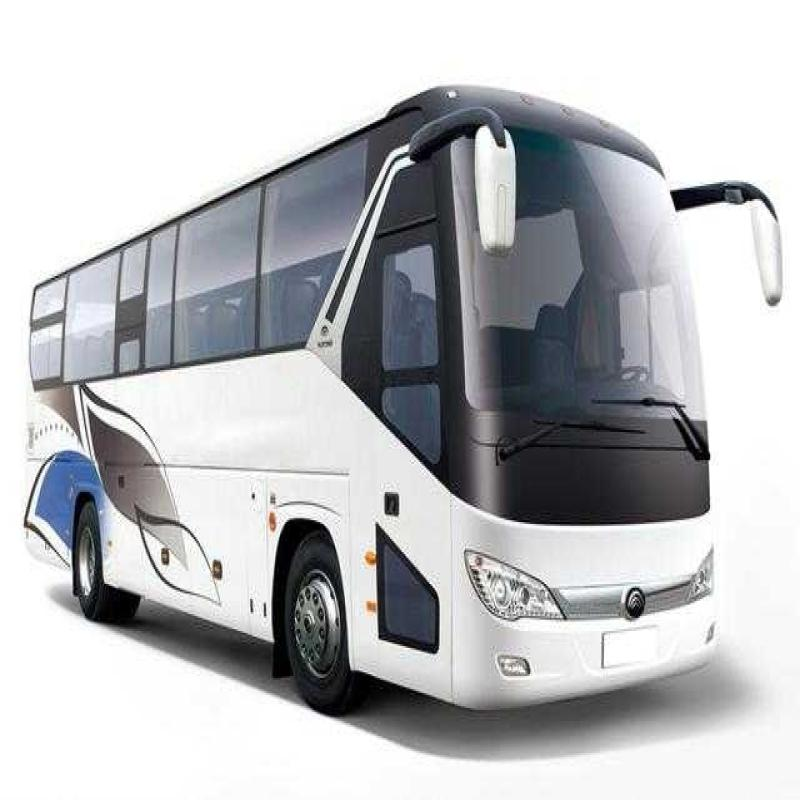bus: (18, 58, 777, 721)
